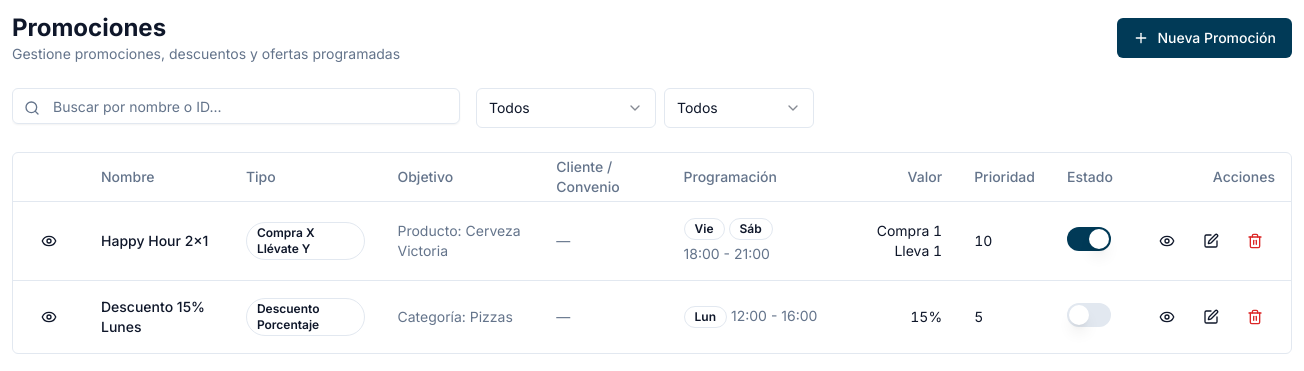
Test: PromotionsList › filters by search query
The width and height of the screenshot is (1304, 371).
Type "Happy" into the field with placeholder "Buscar por nombre o ID..." at [236, 106], box left=12, top=88, right=460, bottom=124
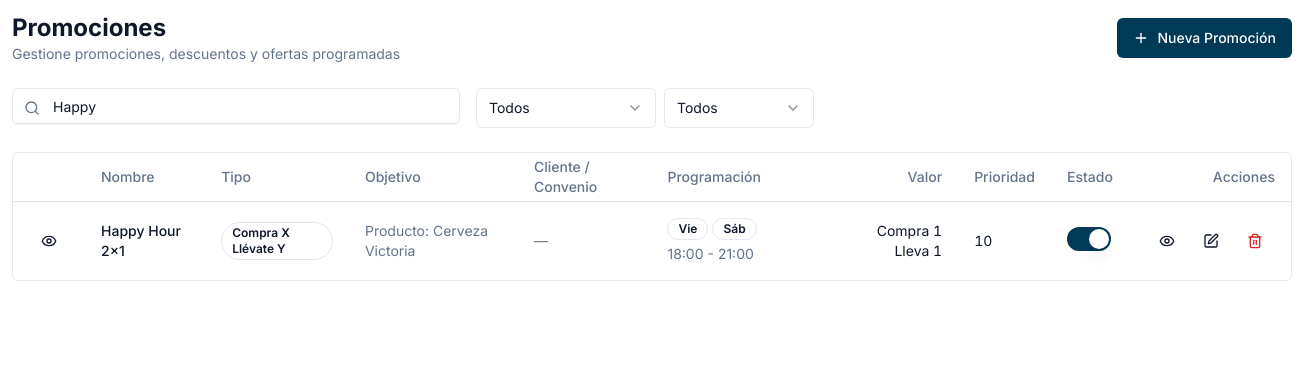
Expected: the text "Happy Hour 2x1" is shown, left=85, top=201, right=205, bottom=280
Expected: the text "Descuento 15% Lunes" is gone
